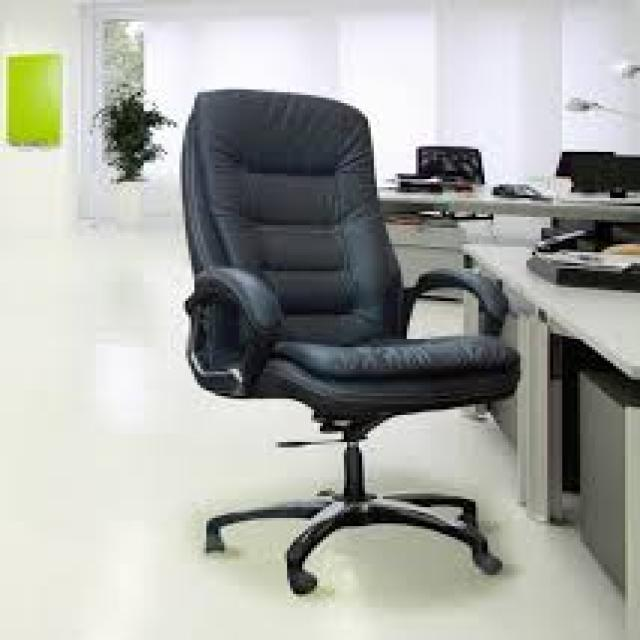chair: (79, 66, 543, 612)
